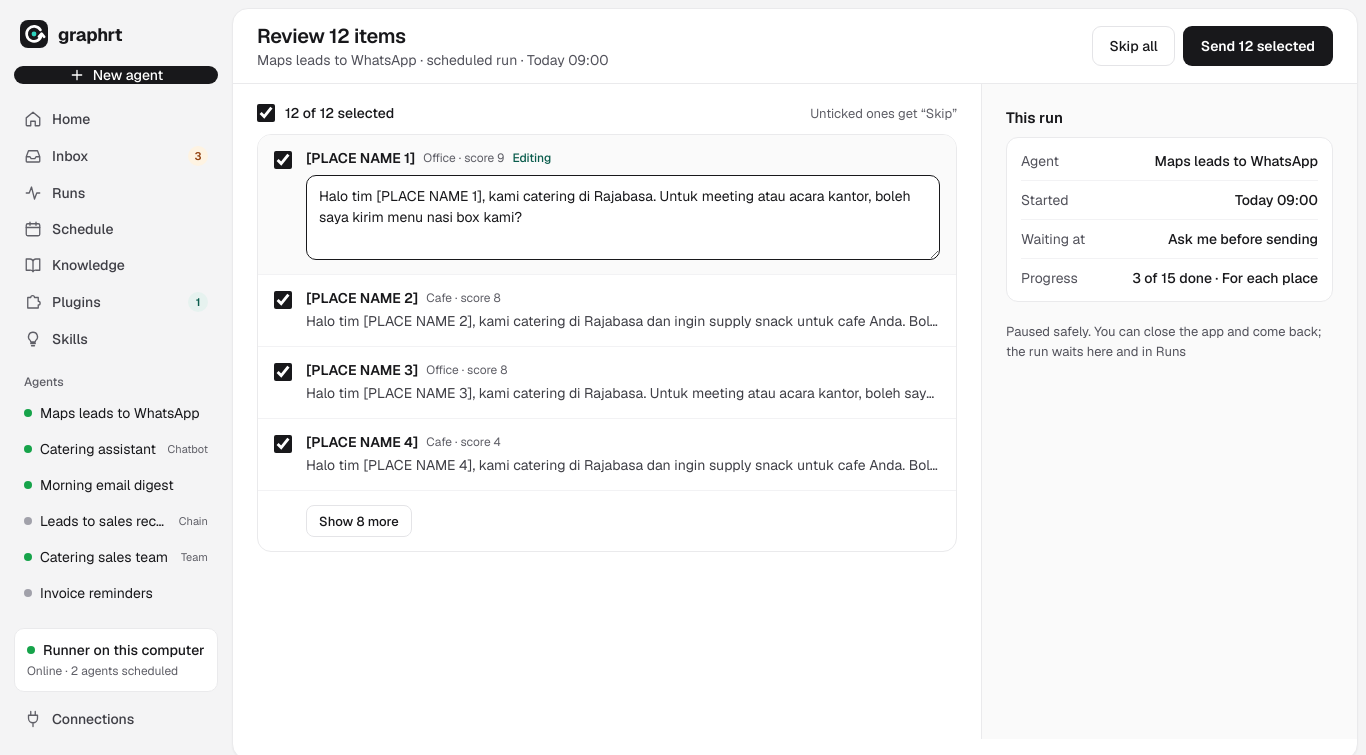
Test: BatchApprovalPage › updates the send count when a question is unticked
Click the checkbox named "Send: [PLACE NAME 2]": coordinates (283, 300) [274,291,292,309]
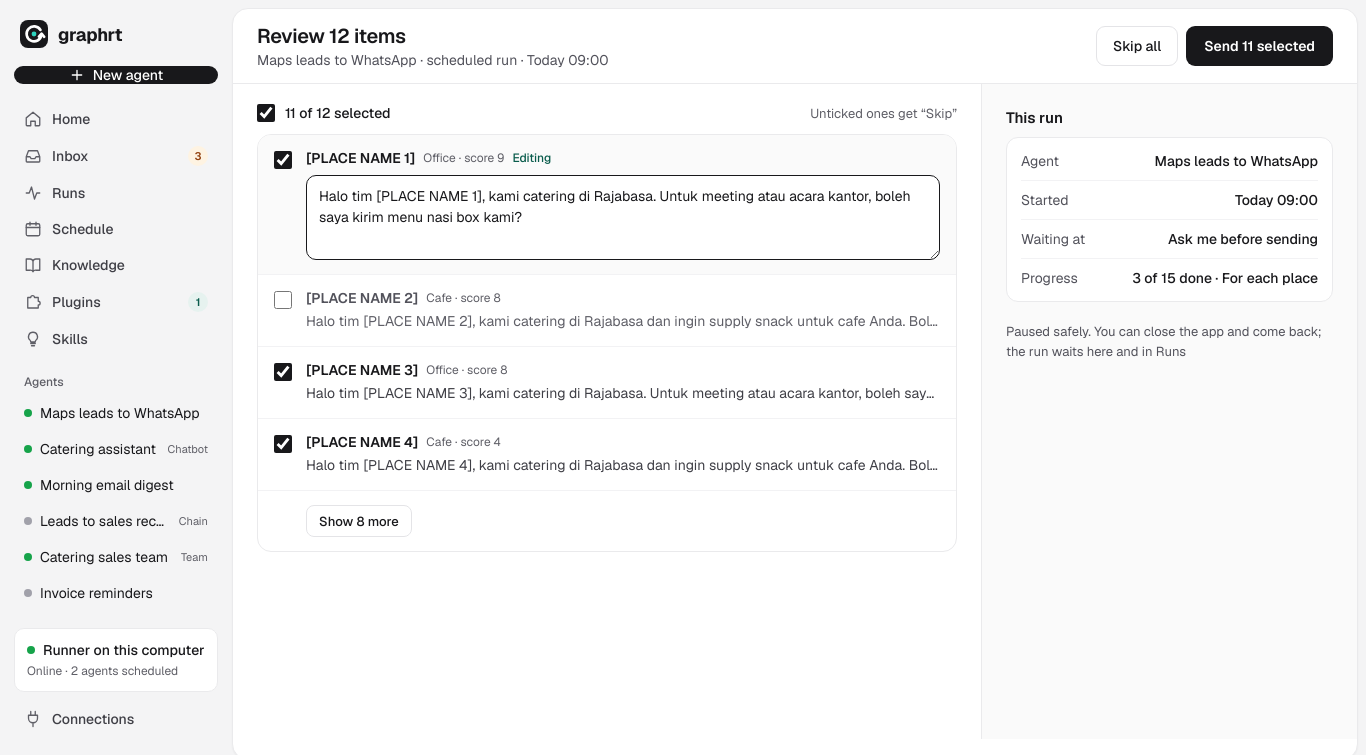
Check: the text "Unticked ones get “Skip”" is shown, box [810,104,957,122]
Check: the button "Send 11 selected" is shown, box [1186,26,1333,66]
